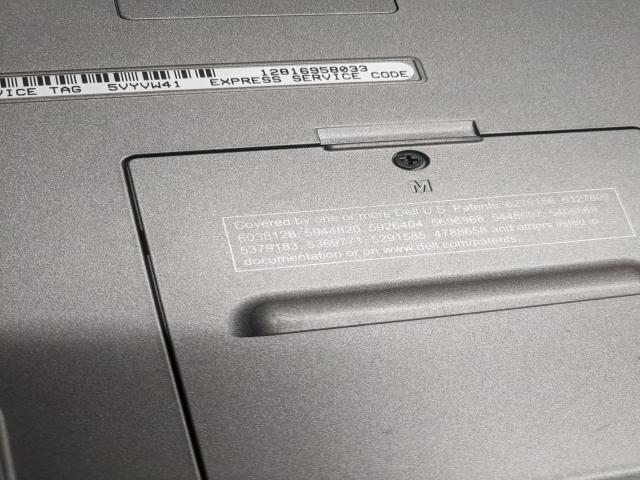CRS: (393, 151, 427, 169)
